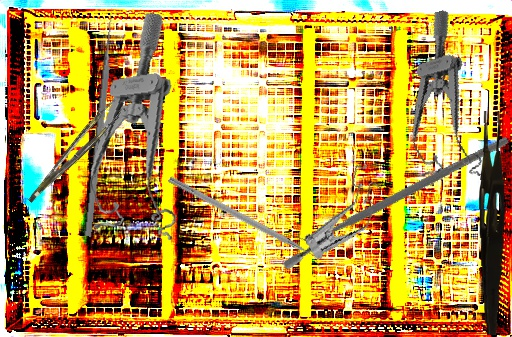Chopper: (289, 68, 510, 307), (163, 175, 327, 273)
Dressing Forceps: (475, 110, 509, 336)
Pusher: (84, 7, 116, 237)
Speculum: (66, 10, 193, 252), (375, 8, 498, 193), (281, 146, 389, 290)
Tissue Forceps: (16, 98, 130, 204)
